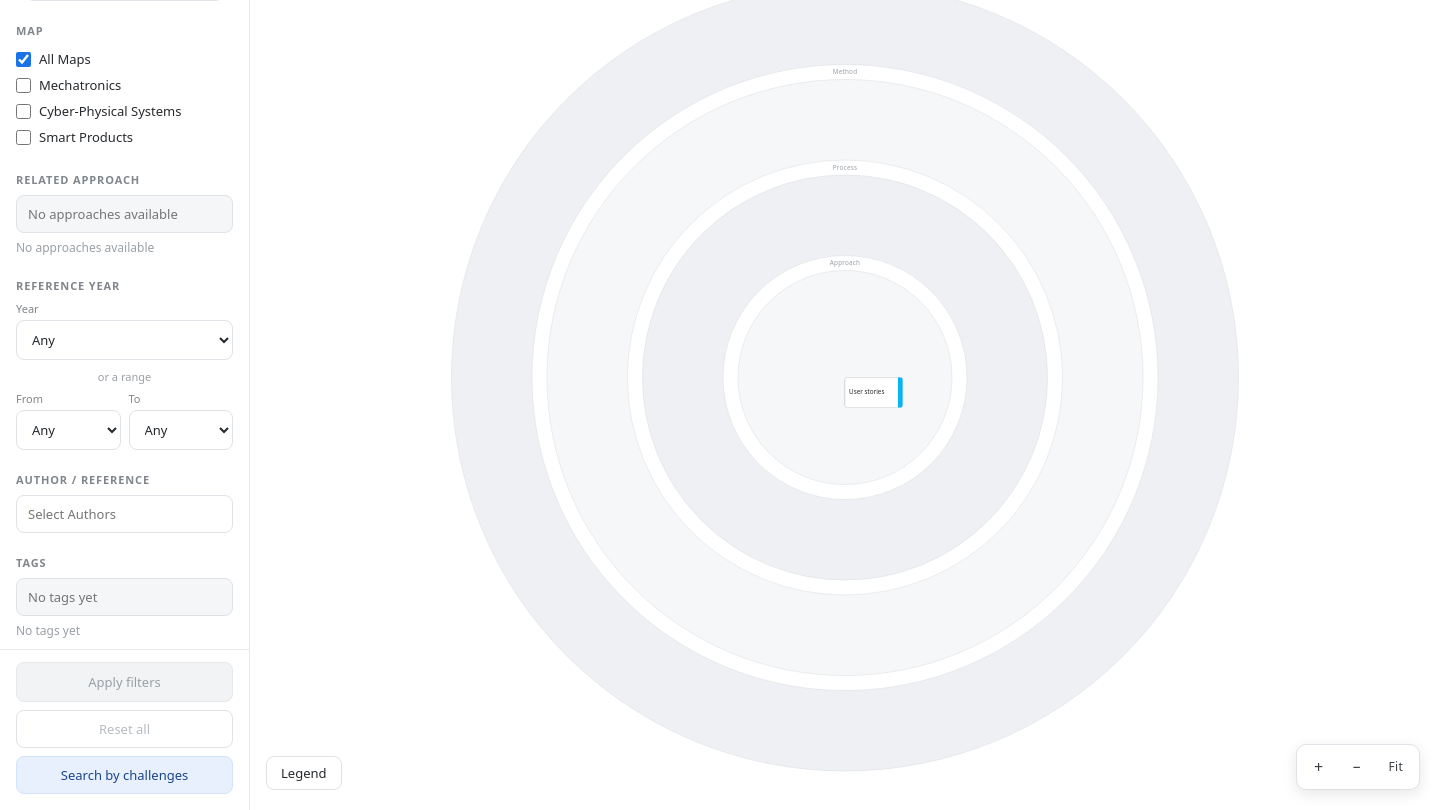
Test case: the results panel › orders a section by level, inward to outward like the map
(page scrolled)
What coordinates should you click on to do the following:
click the button "Search by challenges"
I would click on:
 (124, 775)
Its box is x1=16 y1=756 x2=233 y2=794.
(page scrolled)
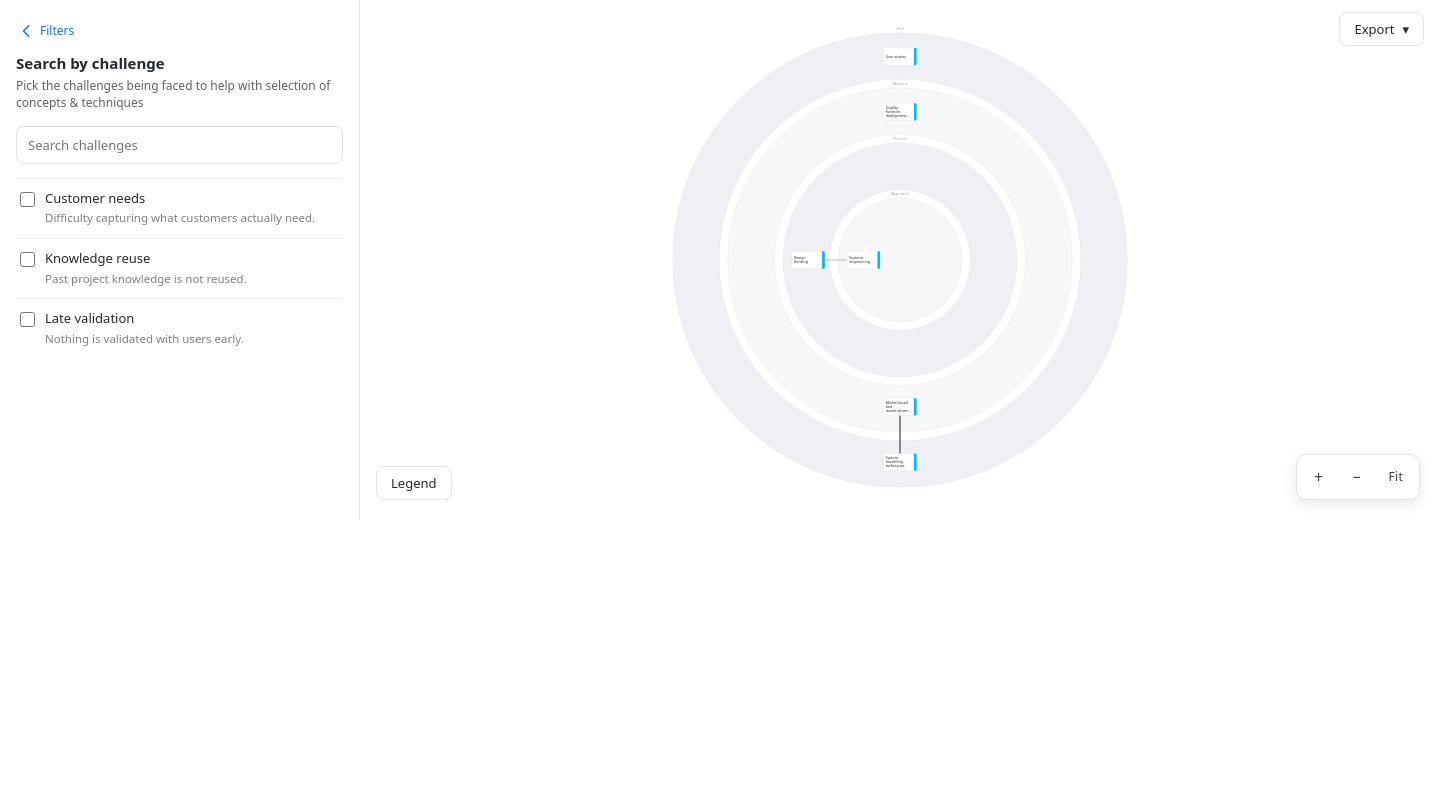
What coordinates should you click on to do the following:
click the 1st checkbox
I would click on:
 (28, 199)
Its box is x1=20 y1=192 x2=35 y2=207.
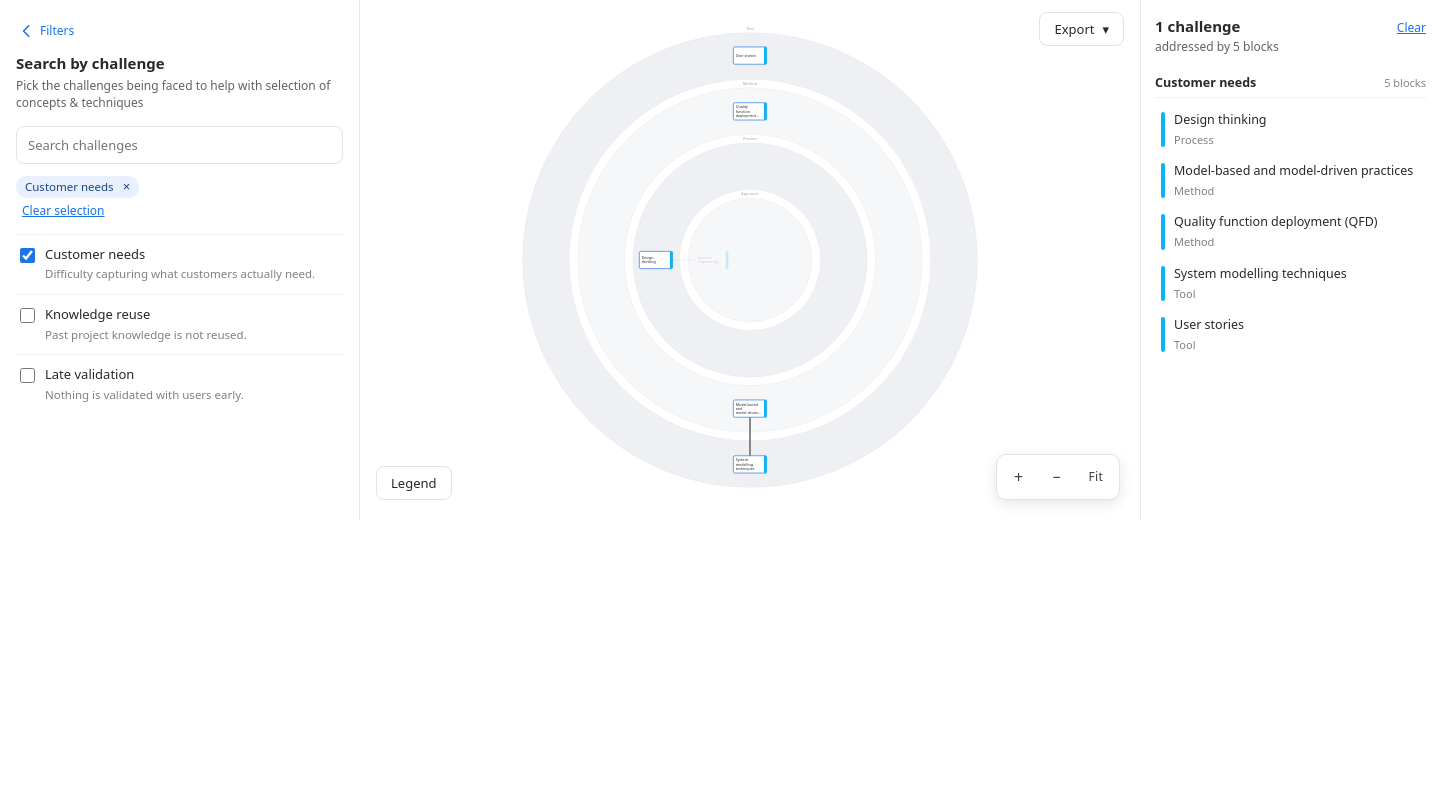
Check: the text "Design thinking" is shown, box x1=1174 y1=112 x2=1267 y2=129
Check: the text "Model-based and model-driven practices" is shown, box x1=1174 y1=163 x2=1413 y2=180
Check: the text "Quality function deployment (QFD)" is shown, box x1=1174 y1=214 x2=1378 y2=231
